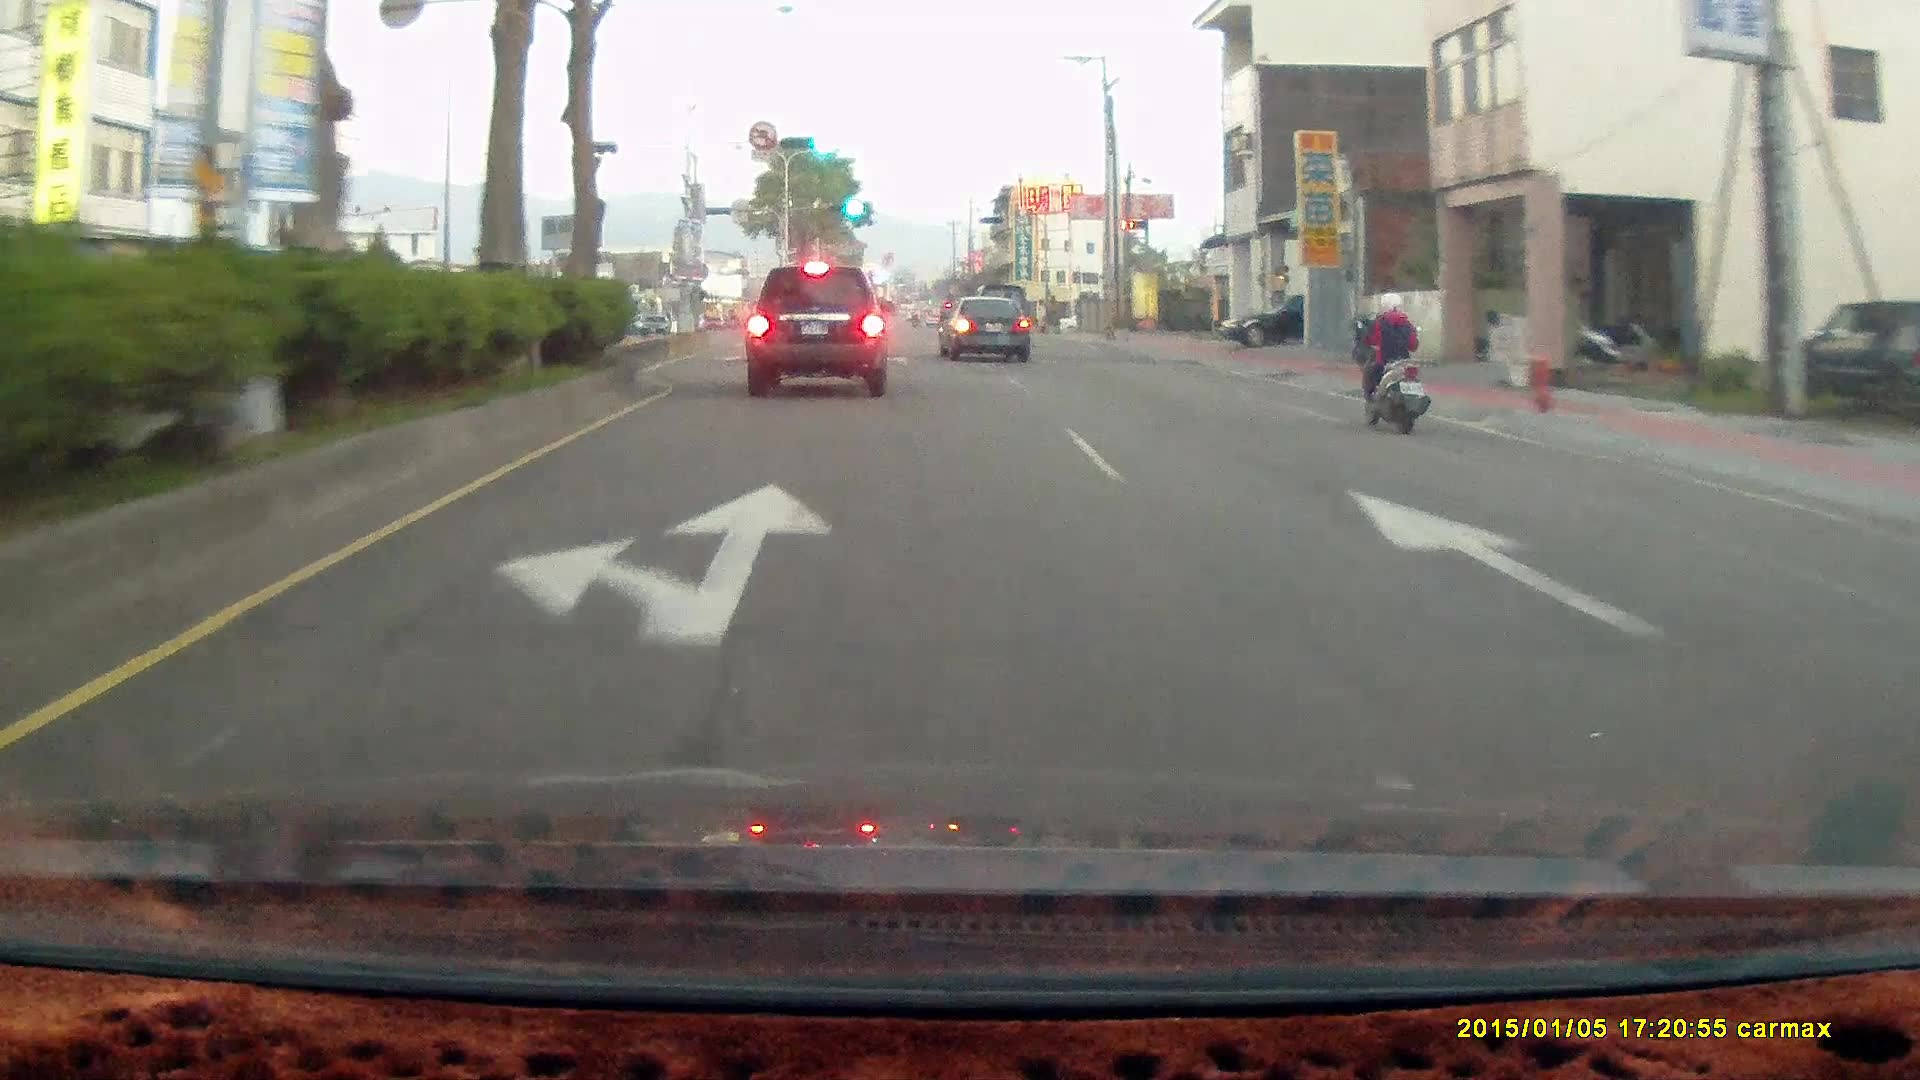rider: (1340, 281, 1446, 443), (1355, 289, 1430, 438)
vehicle: (740, 260, 890, 398), (745, 266, 895, 397), (1797, 299, 1920, 421), (1805, 297, 1920, 418), (1216, 290, 1378, 348), (943, 295, 1035, 362), (937, 292, 1029, 358), (1217, 293, 1309, 351)
